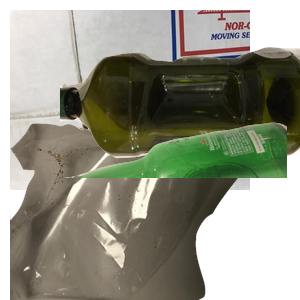cardboard: (10, 10, 250, 190)
glass: (60, 120, 300, 300)
plastic: (60, 44, 300, 195)
trash: (10, 120, 250, 300)
